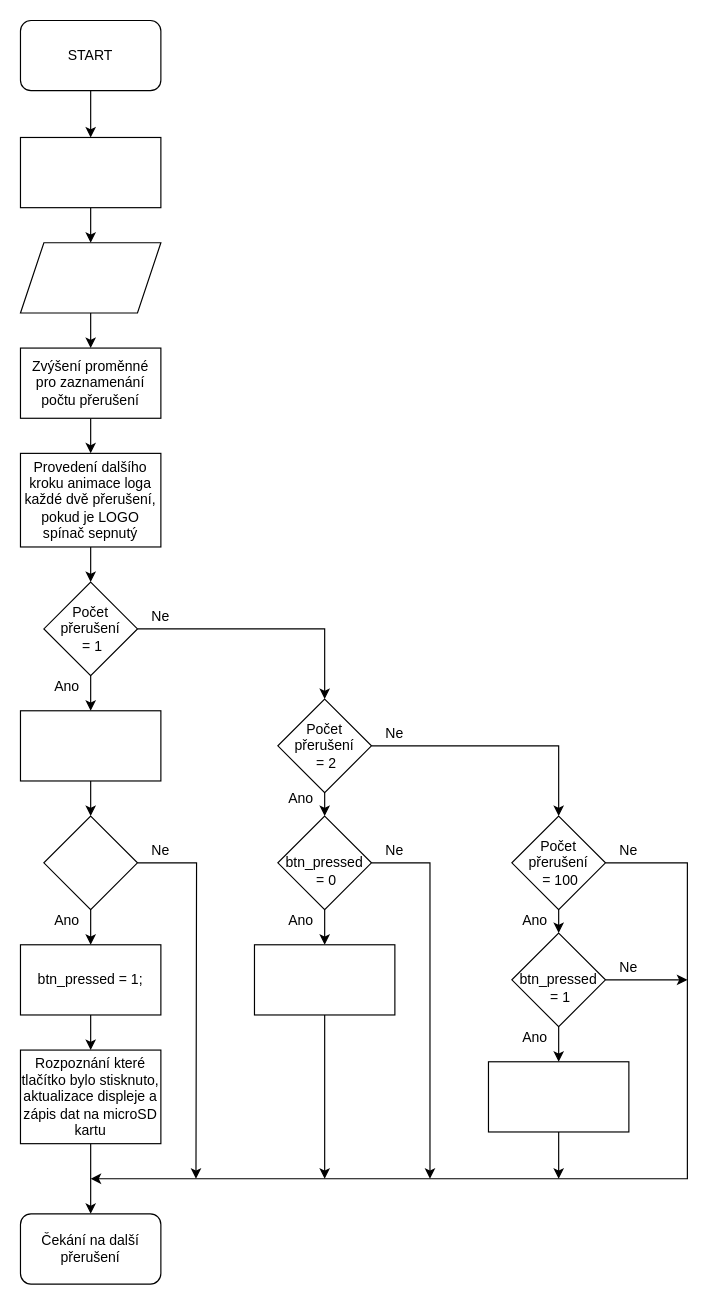
Some shapes in this 717 by 1305 pixel diagram are drawn without their labels. The shapes that lost their labels are listed below. From the top down, each one's centre as x and y in pixels, then its label:
the point at 90,172: Inicializace
the point at 90,277: Přetečení časovače 2 16 ms
the point at 90,745: Hledání stisku tlačítka
the point at 90,862: Je tlačítko stisknuto
the point at 324,979: Nastavení počtu přerušení na nulu
the point at 558,1096: Nastavení počtu přerušení a proměnné btn_pressed na nulu
